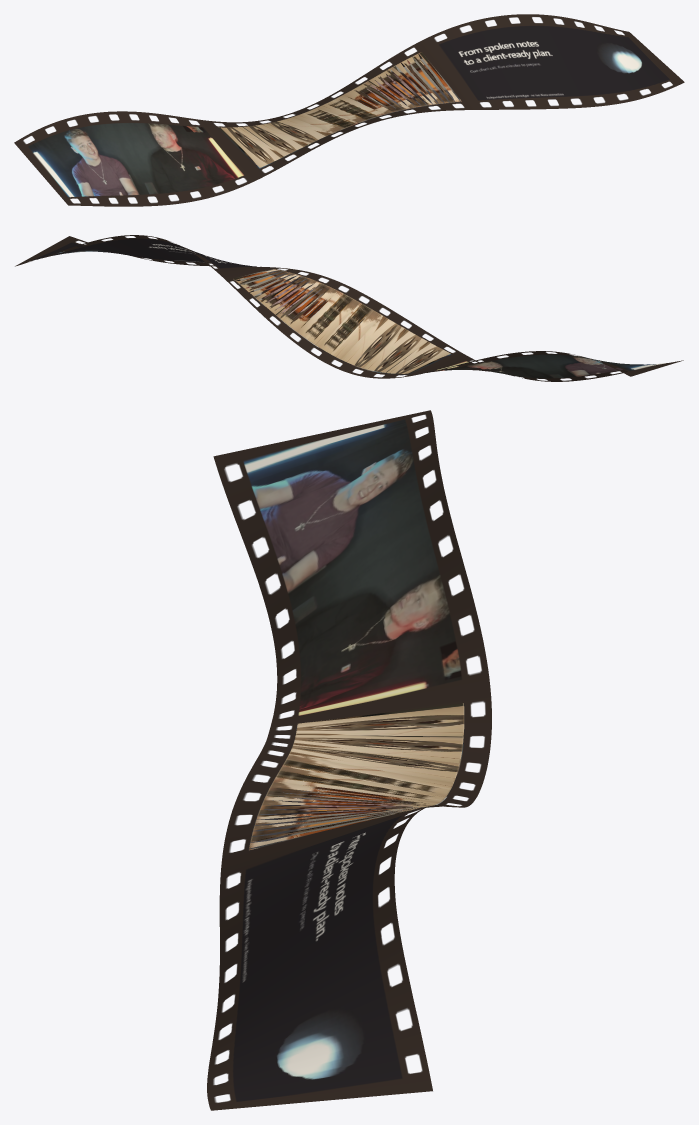
Rendered from contact.glb.
3 renders of one model, top to bottom at view 1: azimuth 30°, elevation 25°; view 2: azimuth 150°, elevation 25°; view 3: azimuth 270°, elevation 25°, orthographic. The views are drawn at different scales.
Parts seen in each view (by area): view 1: Negative, Emulsion; view 2: Negative, Emulsion; view 3: Negative, Emulsion.
Part boxes in pixels (bbox=[...]): Negative: bbox=[14, 14, 684, 206]; Emulsion: bbox=[218, 52, 461, 167]; Negative: bbox=[15, 235, 683, 381]; Emulsion: bbox=[233, 269, 450, 373]; Negative: bbox=[207, 410, 491, 1110]; Emulsion: bbox=[249, 703, 464, 850].
Bounding box in the file's own units: 14.4 × 1.82 × 2.88.
Materials: 2 (2 with a texture image).
